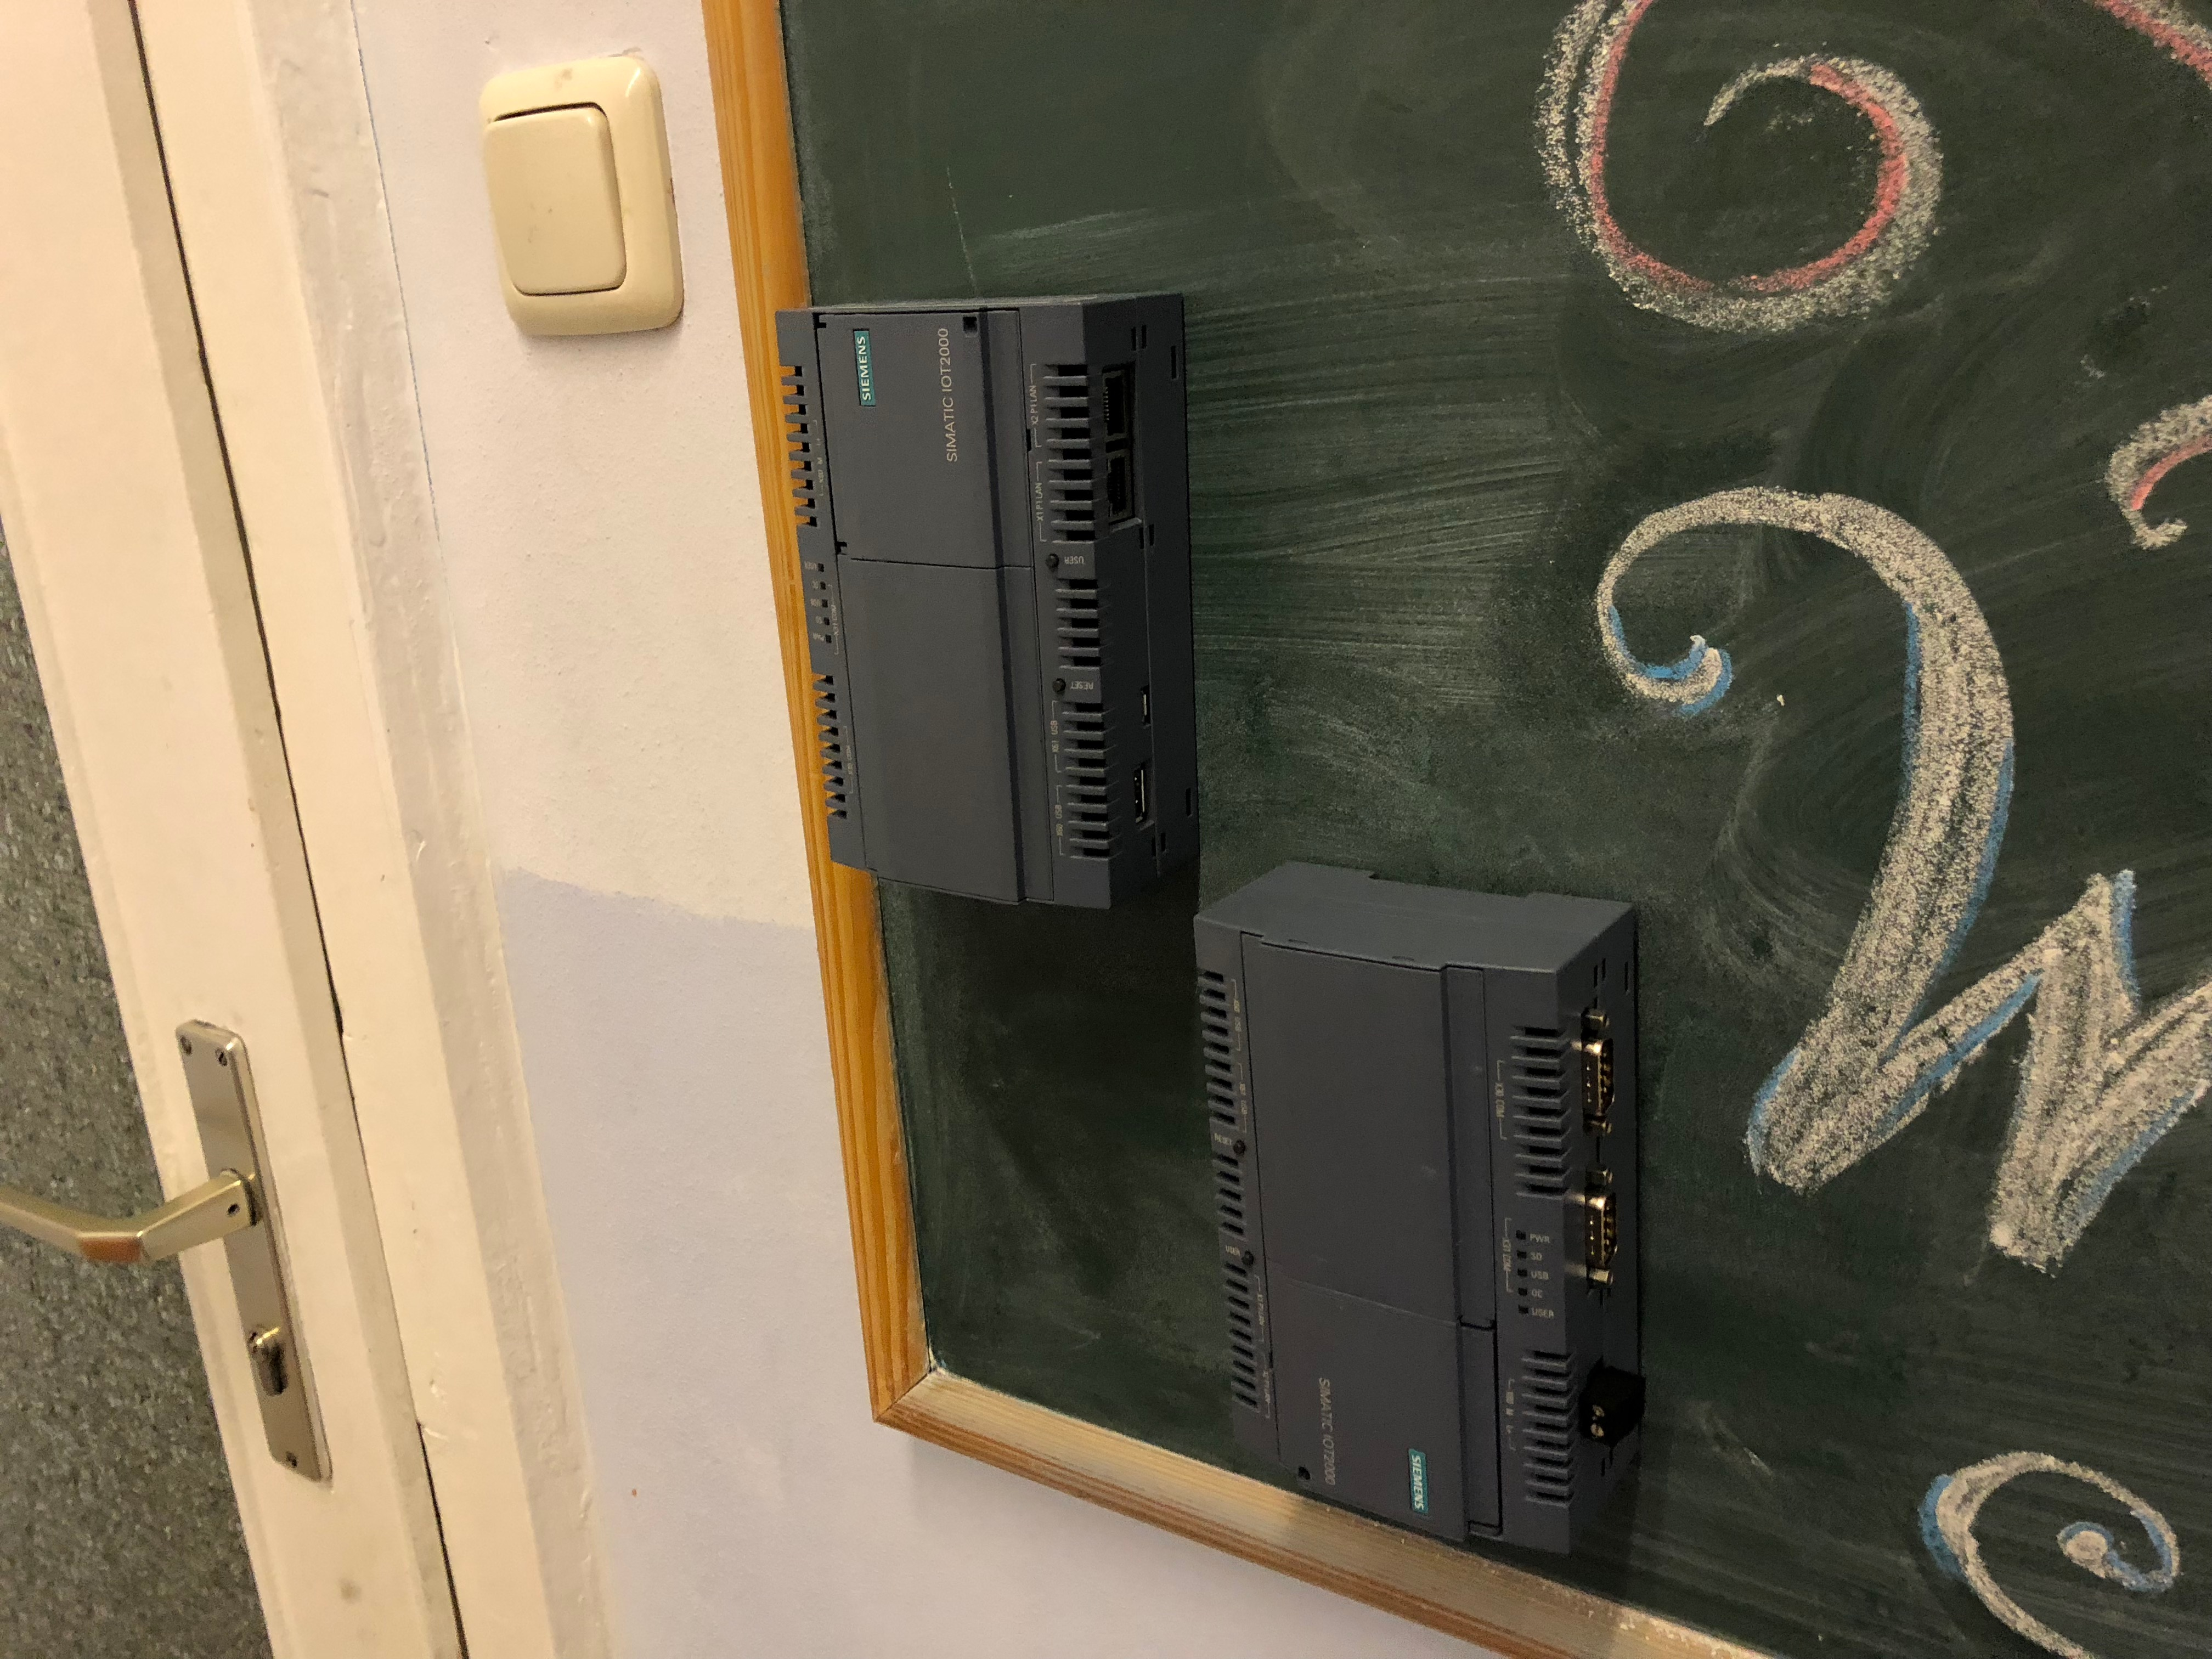device: (1193, 861, 1646, 1556), (773, 295, 1198, 910)
